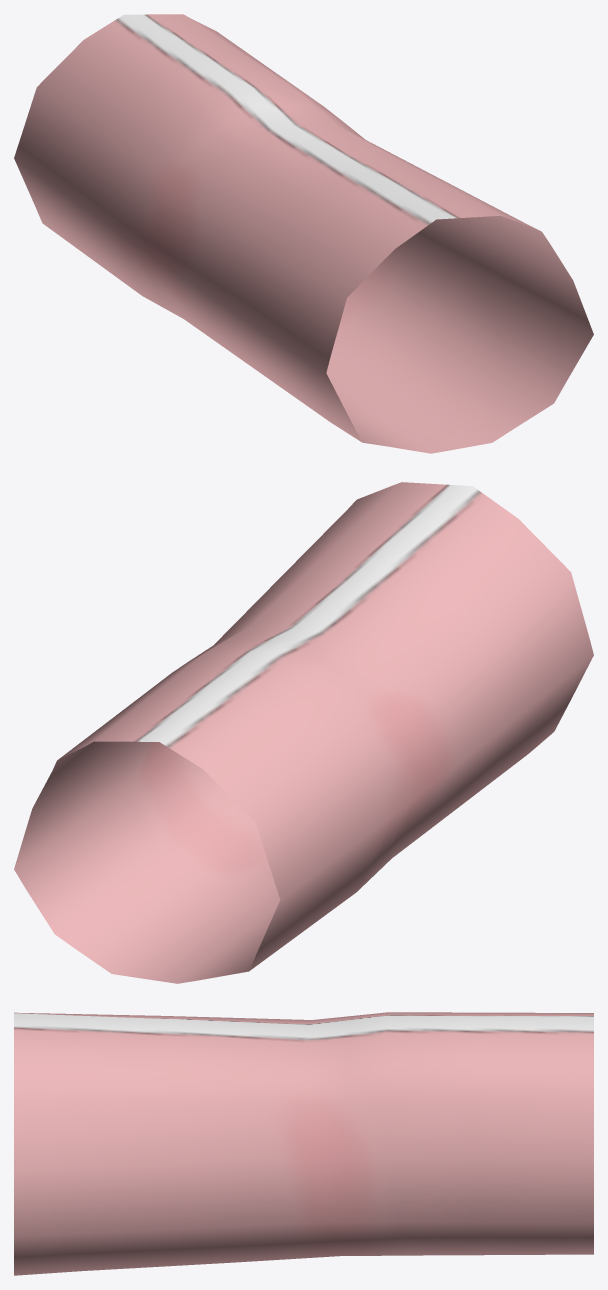
The model's file is HitoriFretUpper.obj.
3 views of the same model, one above another, from view 1: azimuth 30°, elevation 25°; view 2: azimuth 150°, elevation 25°; view 3: azimuth 270°, elevation 25° (orthographic). The views are drawn at different scales.
Bounding box in the file's own units: 0.1926 × 0.1551 × 0.3543.
1 material, 1 textured.
